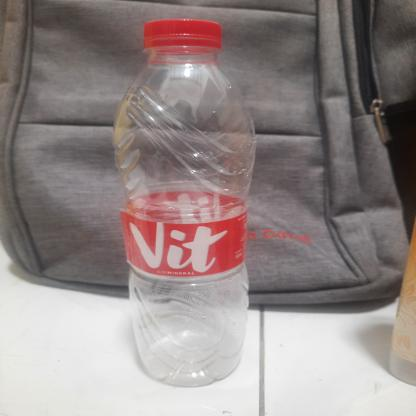bottle: (110, 15, 262, 389)
